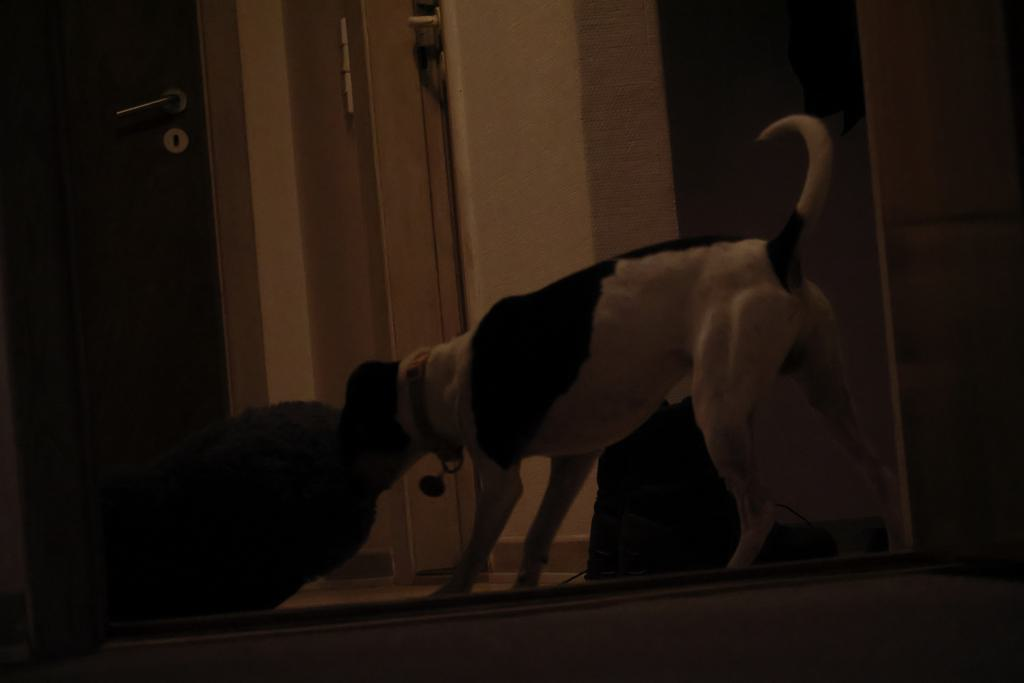Dog: (320, 98, 912, 609)
